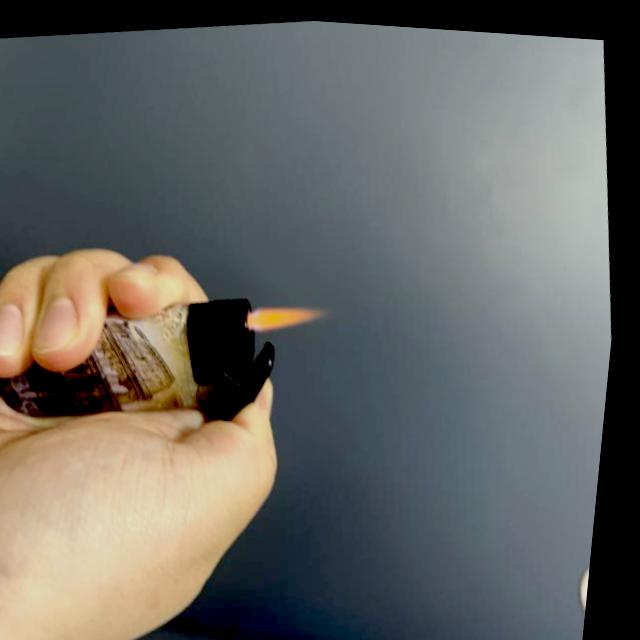helmet: (250, 290, 342, 333)
